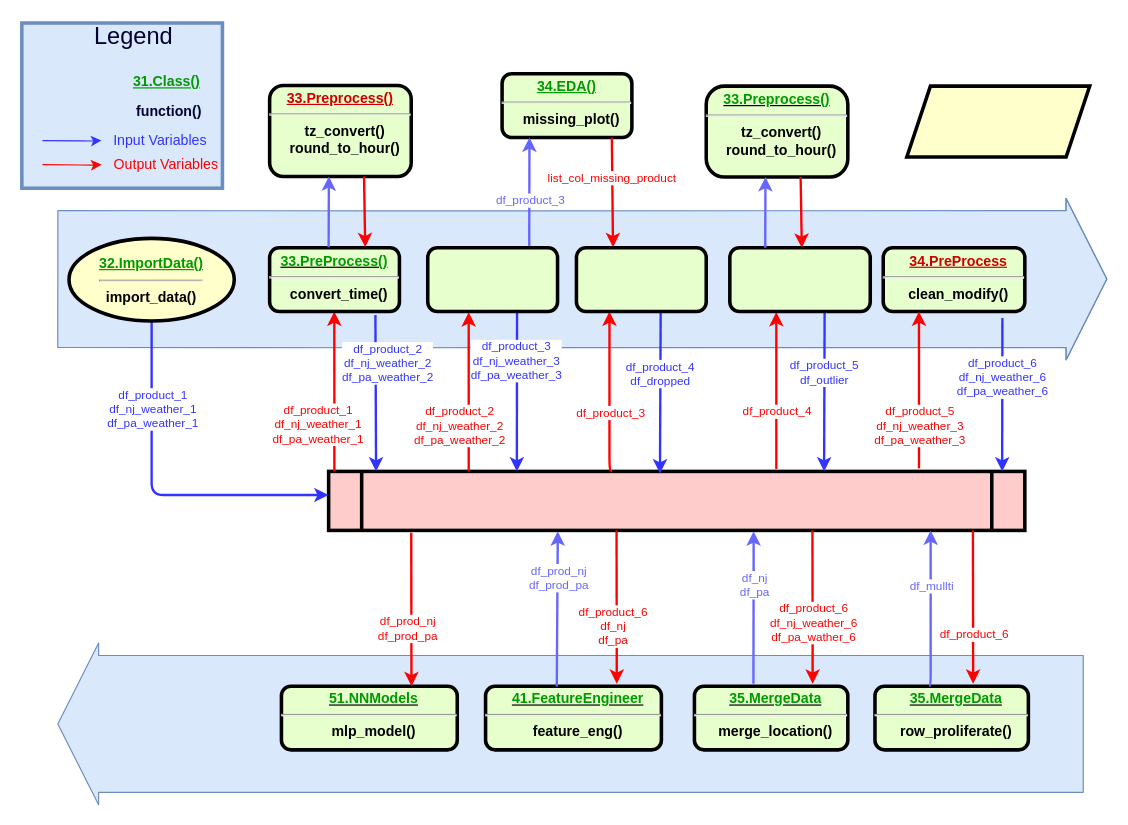
This 1128x825 diagram has some shape labels left out. The centre of each missing label's shape, as x and y in pixels:
31.Hyperparamters: point 997,121
34.PreProcess drop_col(): point 492,279
34.PreProcess drop_na(): point 640,279
34.PreProcess drop_outlier(): point 799,279
if __name__=="__main__": point 676,500
